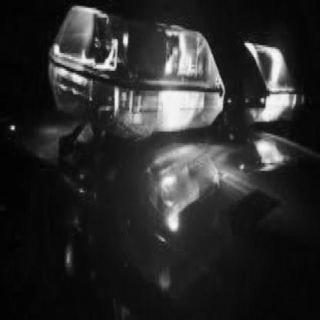other: (23, 6, 314, 288)
